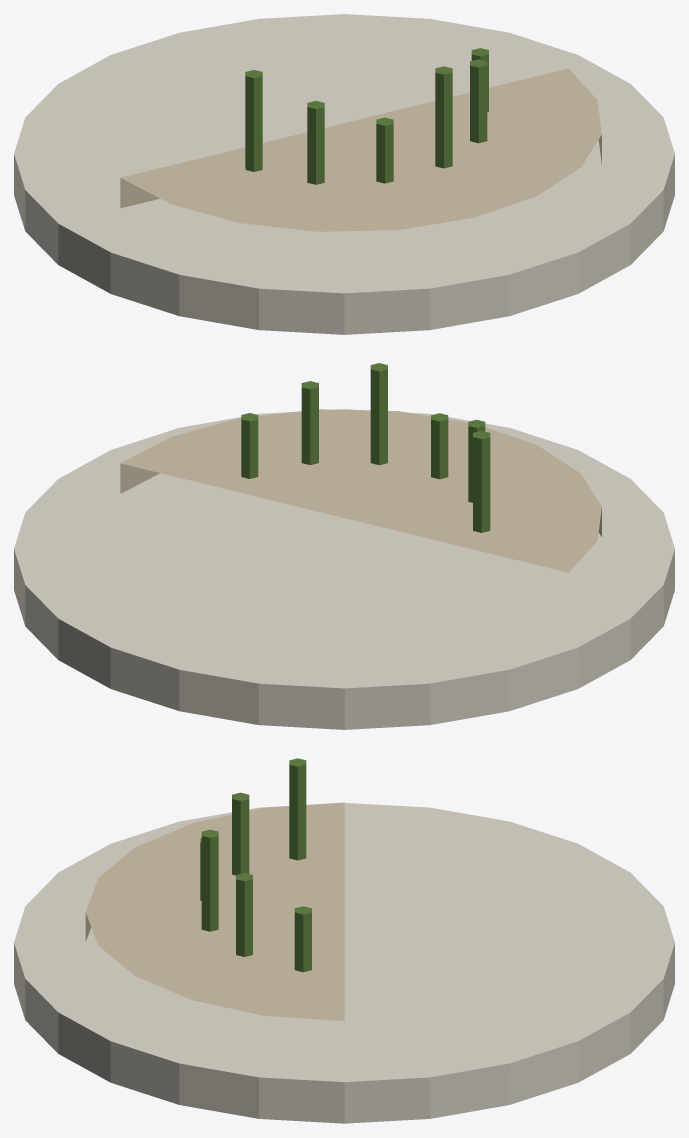
File: rb_planter.glb
3 renders of one model, top to bottom at view 1: azimuth 30°, elevation 25°; view 2: azimuth 150°, elevation 25°; view 3: azimuth 270°, elevation 25°, orthographic.
Parts seen in each view (by area): view 1: rb_planter_lod0; view 2: rb_planter_lod0; view 3: rb_planter_lod0.
Part boxes in pixels (<box>): rb_planter_lod0: <box>14,14,674,334</box>; rb_planter_lod0: <box>14,363,674,729</box>; rb_planter_lod0: <box>14,758,674,1123</box>.
Size of what is drawn, in the model's own units: 16.6 by 4.6 by 16.6.
